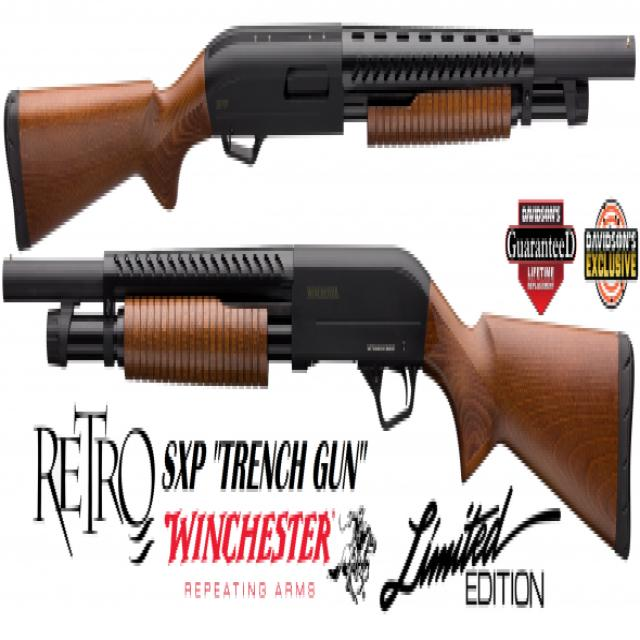ShotGun: (2, 244, 614, 550), (5, 19, 640, 248)
